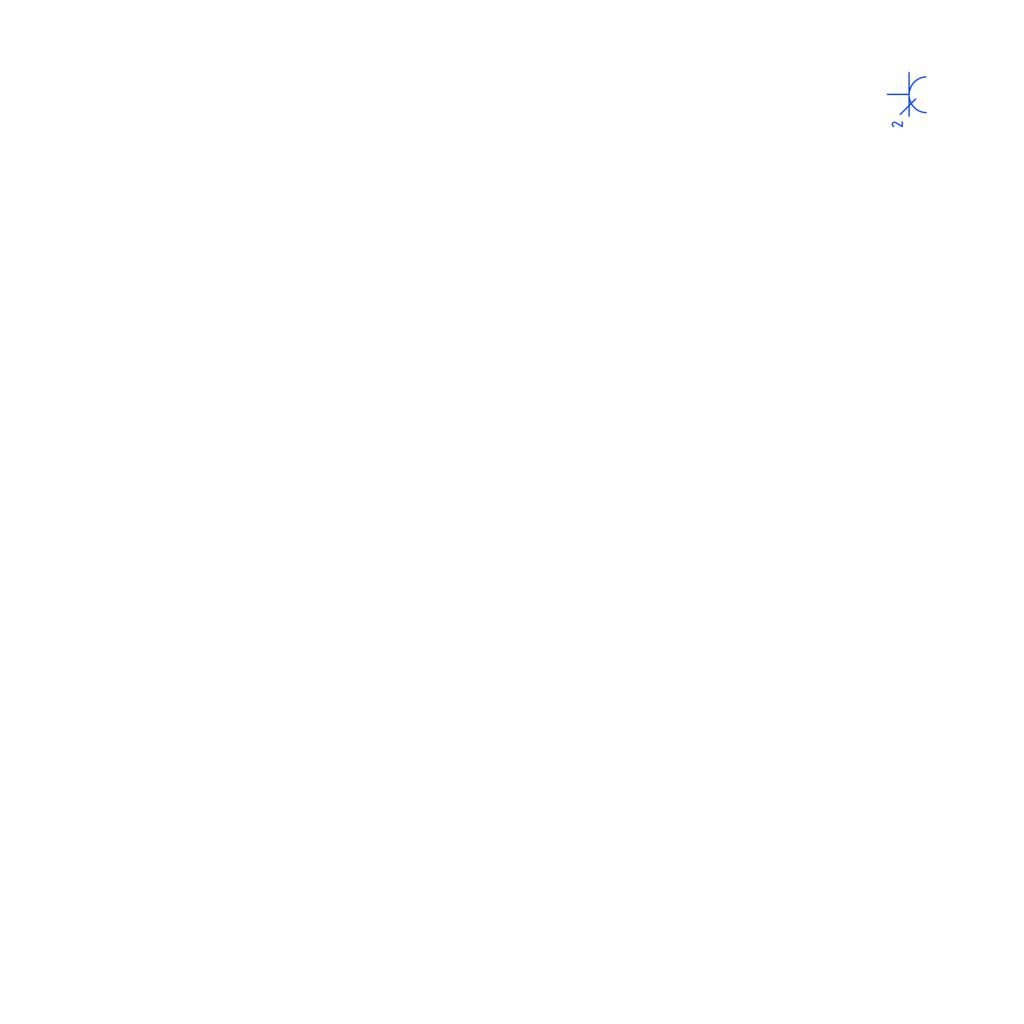Schukosteckdose_mehrfach: (886, 71, 930, 131)
